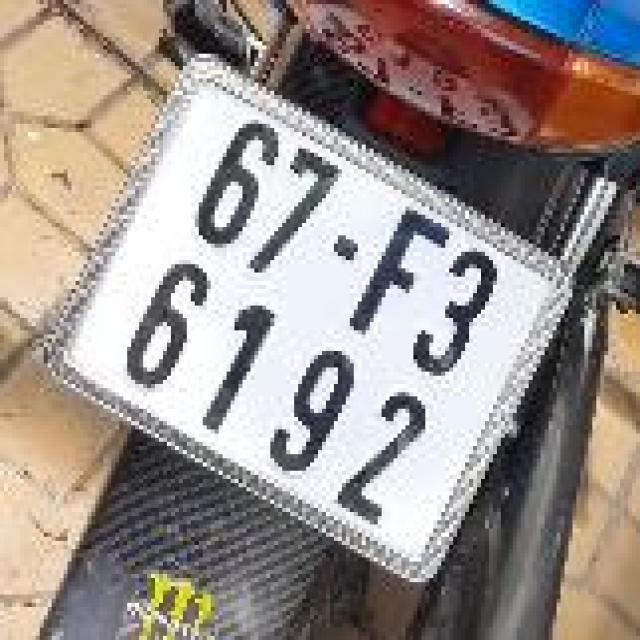1: (182, 287, 304, 455)
2: (320, 369, 454, 543)
3: (388, 218, 525, 402)
6: (173, 87, 294, 270), (104, 239, 230, 410)
7: (231, 123, 356, 300)
9: (251, 330, 380, 491)
F: (333, 190, 466, 362)
